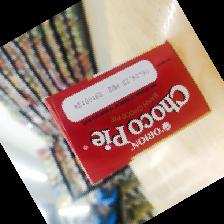Chocopie: (43, 40, 213, 187)
